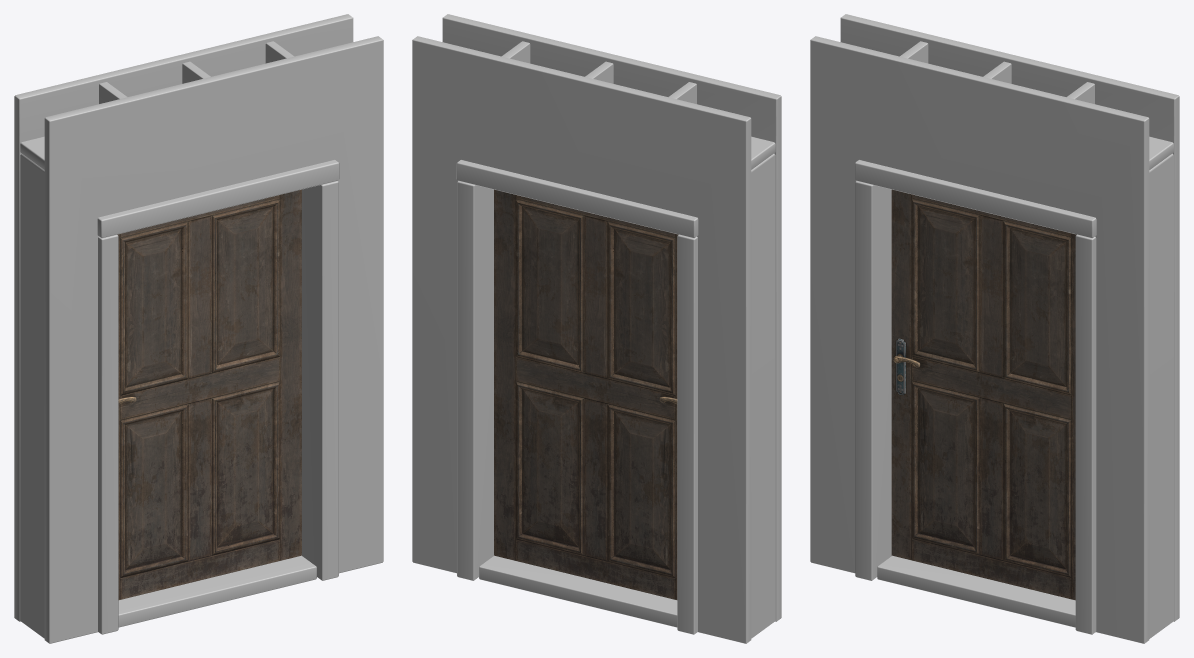
Rendered from Wall_01_2_doors_2m.fbx.
3 renders of one model, left to right at view 1: azimuth 30°, elevation 25°; view 2: azimuth 150°, elevation 25°; view 3: azimuth 330°, elevation 25°, orthographic.
Parts seen in each view (by area): view 1: Wall_01_2_doors_2_m, Doors1; view 2: Wall_01_2_doors_2_m, Doors1; view 3: Wall_01_2_doors_2_m, Doors1.
Boxes of the visible parts, x1,y1,x2,y2 form: Wall_01_2_doors_2_m: (14, 14, 383, 643); Doors1: (117, 189, 301, 599); Wall_01_2_doors_2_m: (412, 14, 781, 643); Doors1: (494, 189, 678, 599); Wall_01_2_doors_2_m: (810, 14, 1179, 643); Doors1: (891, 189, 1076, 600).
Size of the model in its own units: 201 by 301 by 44.92.
